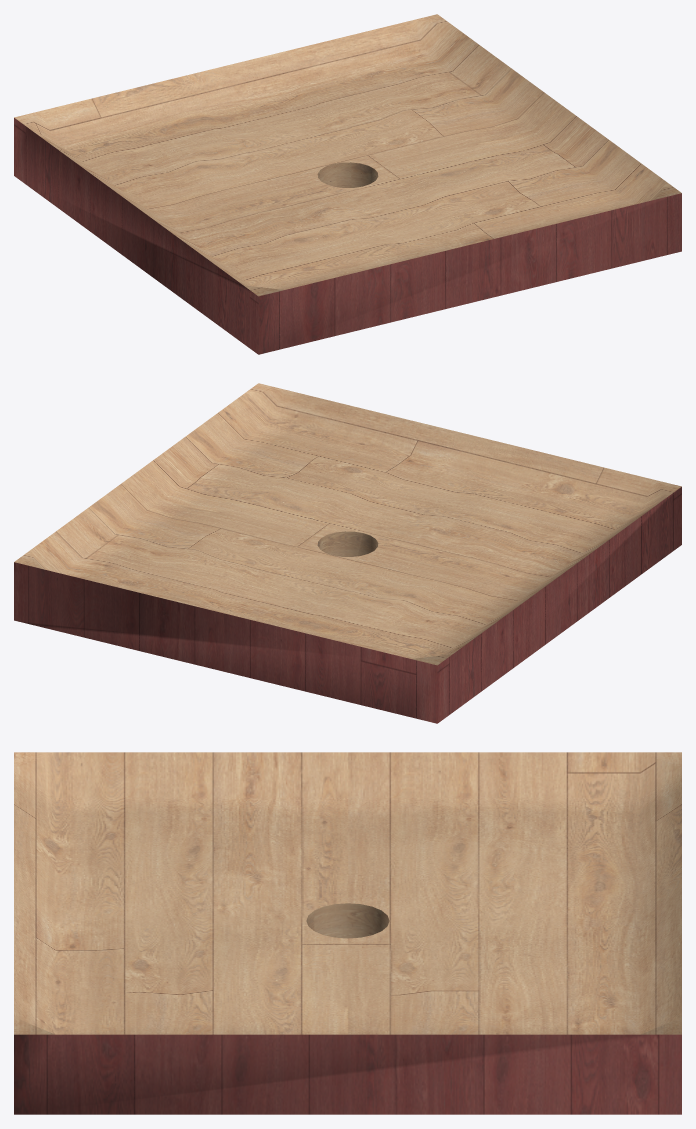
Rendered from Plate 3.fbx.
3 renders of one model, top to bottom at view 1: azimuth 30°, elevation 25°; view 2: azimuth 150°, elevation 25°; view 3: azimuth 270°, elevation 25°, orthographic. The views are drawn at different scales.
Visible parts, largest first — view 1: polySurface1; view 2: polySurface1; view 3: polySurface1.
Part boxes in pixels (box(x1,y1,x2,y2)): polySurface1: box(14, 14, 681, 354); polySurface1: box(14, 383, 681, 723); polySurface1: box(14, 752, 681, 1114).
Bounding box in the file's own units: 34.62 × 5.08 × 34.62.
1 material, 1 textured.
